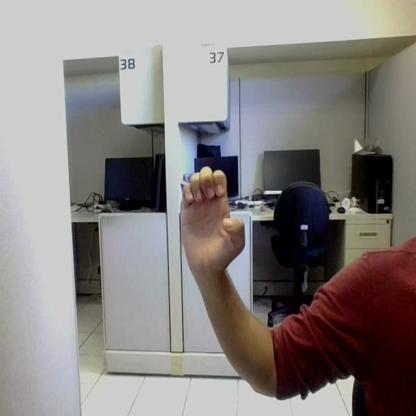E: (181, 166, 245, 264)
